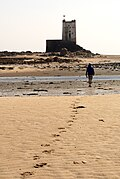human_footprint: (33, 143, 53, 168), (70, 99, 85, 120), (41, 143, 54, 153), (20, 171, 33, 178), (51, 133, 59, 141), (34, 162, 46, 167), (42, 149, 54, 153), (67, 119, 73, 127), (58, 127, 66, 132), (70, 114, 76, 119), (74, 105, 84, 108), (41, 143, 49, 146), (33, 155, 39, 159), (52, 134, 59, 136), (67, 120, 73, 122)
